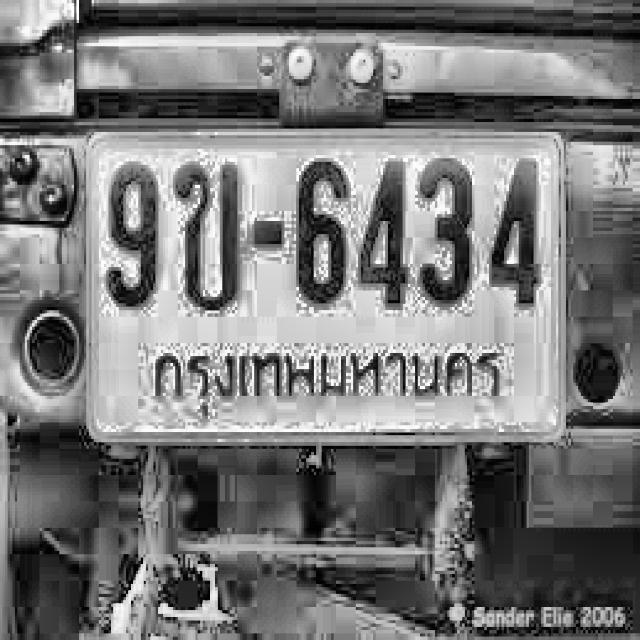license-plate: (83, 128, 570, 444)
